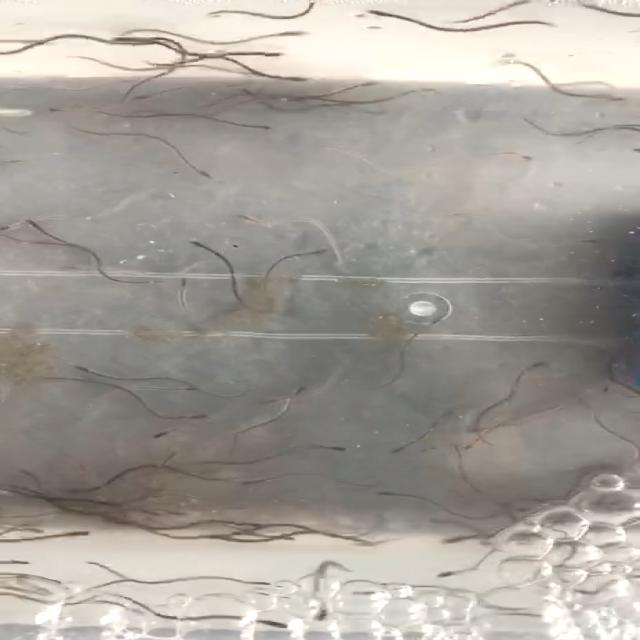active_glass_eel: (296, 605, 356, 633), (166, 164, 225, 192), (490, 52, 558, 75), (247, 612, 304, 638), (104, 31, 168, 54), (16, 212, 70, 238), (230, 471, 294, 492), (227, 208, 270, 235), (230, 116, 282, 138), (512, 352, 564, 374), (184, 238, 234, 260), (0, 220, 44, 243), (365, 482, 409, 504), (426, 531, 468, 553), (132, 426, 189, 442), (281, 68, 322, 88), (304, 440, 355, 456), (357, 6, 405, 22), (172, 268, 206, 290), (384, 441, 419, 462), (429, 567, 465, 587), (252, 394, 290, 412), (385, 288, 419, 308), (121, 88, 159, 105), (248, 46, 282, 64), (248, 576, 282, 593), (65, 359, 101, 375), (97, 496, 135, 511), (182, 410, 222, 424), (294, 246, 332, 260), (459, 426, 497, 440), (462, 440, 488, 460), (187, 531, 224, 545), (275, 28, 316, 40), (202, 7, 238, 19), (172, 384, 208, 396), (222, 526, 252, 540), (274, 534, 302, 548), (12, 468, 40, 479), (290, 385, 316, 396)
